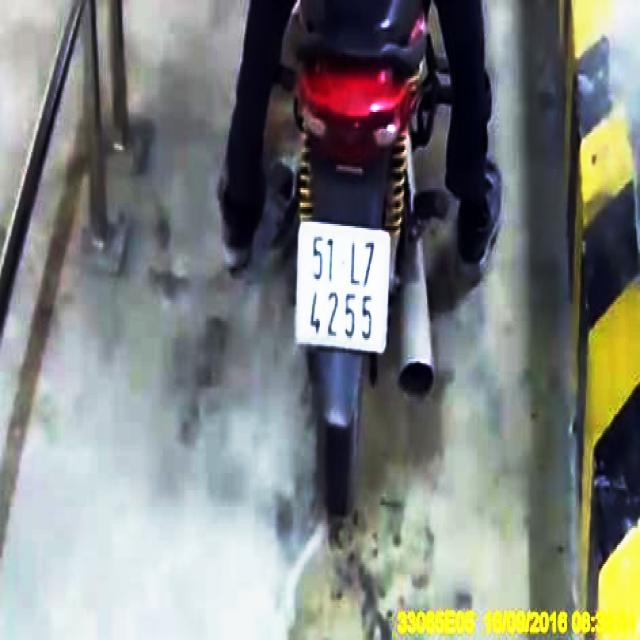license_plate: (297, 222, 390, 351)
